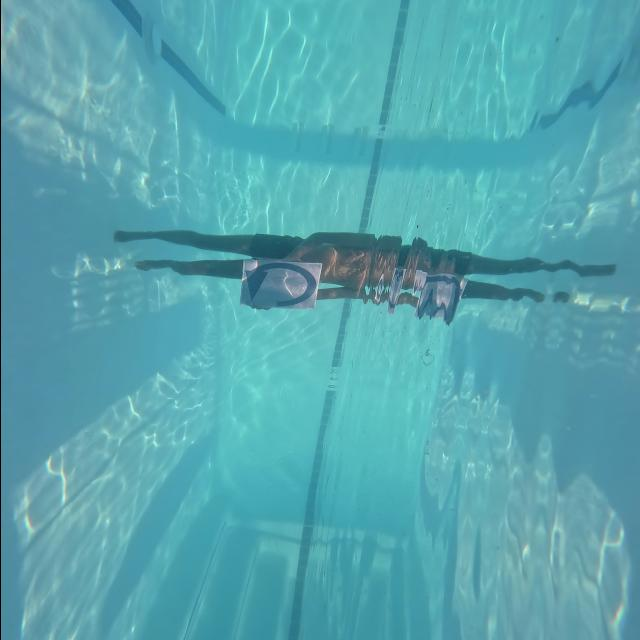blue_side: (236, 258, 324, 310)
